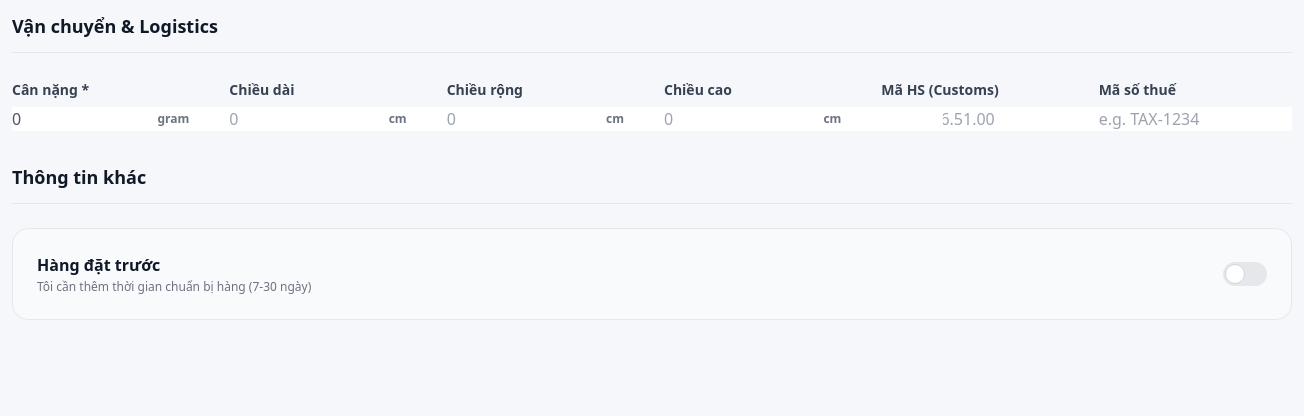
ProductLogistics › toggles pre-order display when checkbox is clicked
Click the checkbox.
click(1245, 274)  # box [1223,262,1267,286]
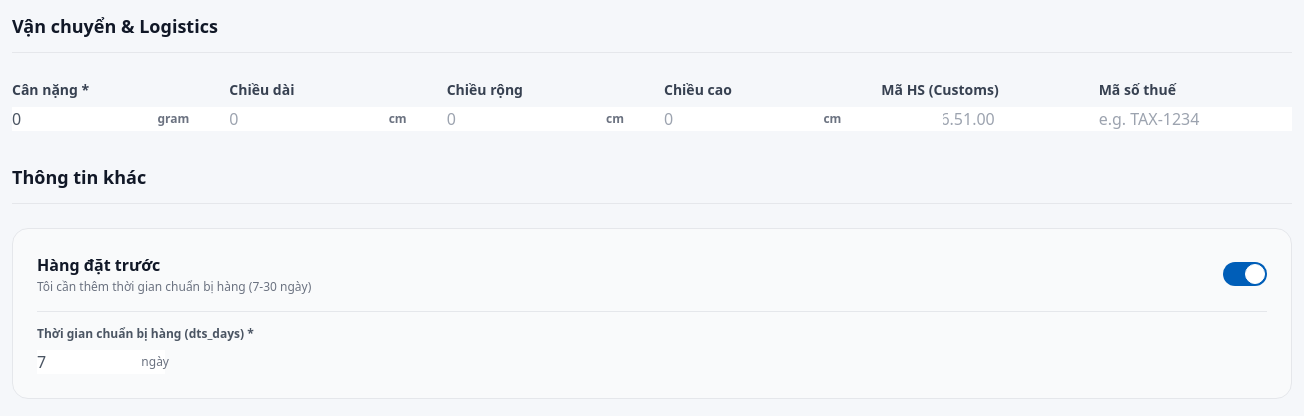
Expected: the text "Thời gian chuẩn bị hàng (dts_days) *" is shown, [37,325,254,342]
